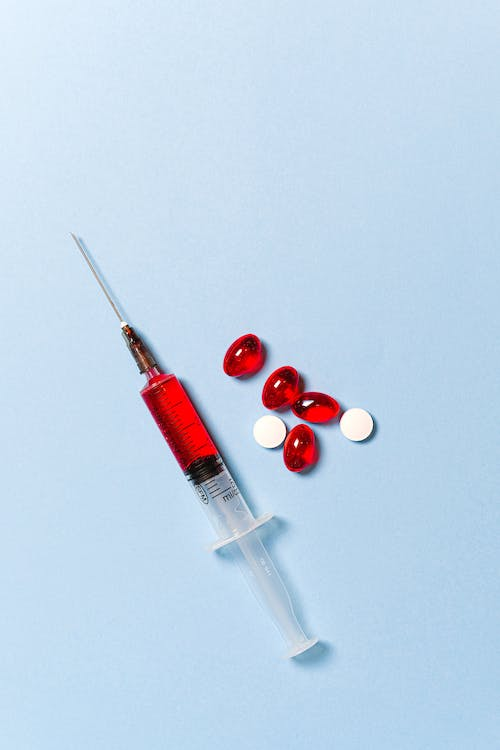blood: (118, 320, 228, 491)
